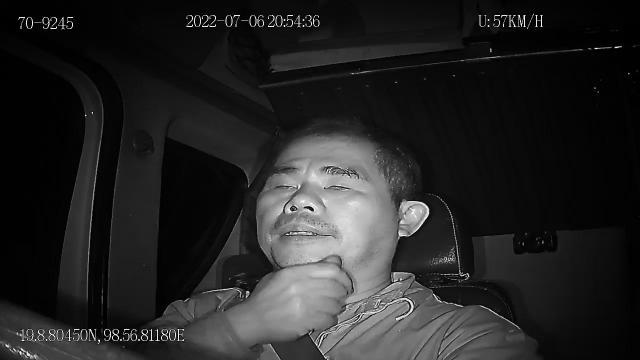SafeDriving: (314, 167, 364, 197)
Seatbelt: (268, 332, 328, 360)
